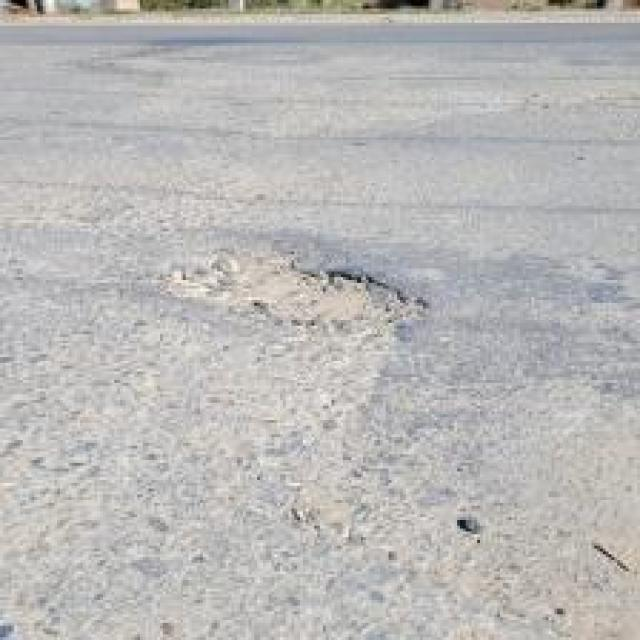BACHE: (165, 253, 426, 331)
